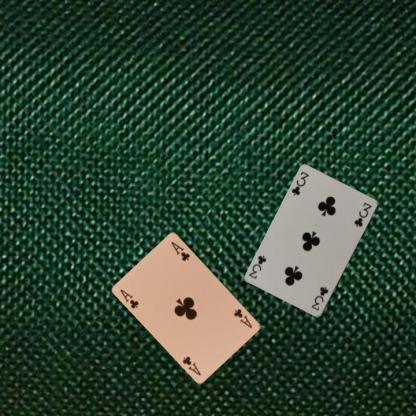3c: (308, 284, 330, 312), (289, 169, 310, 197)
Ac: (231, 306, 254, 329), (118, 286, 140, 310)
